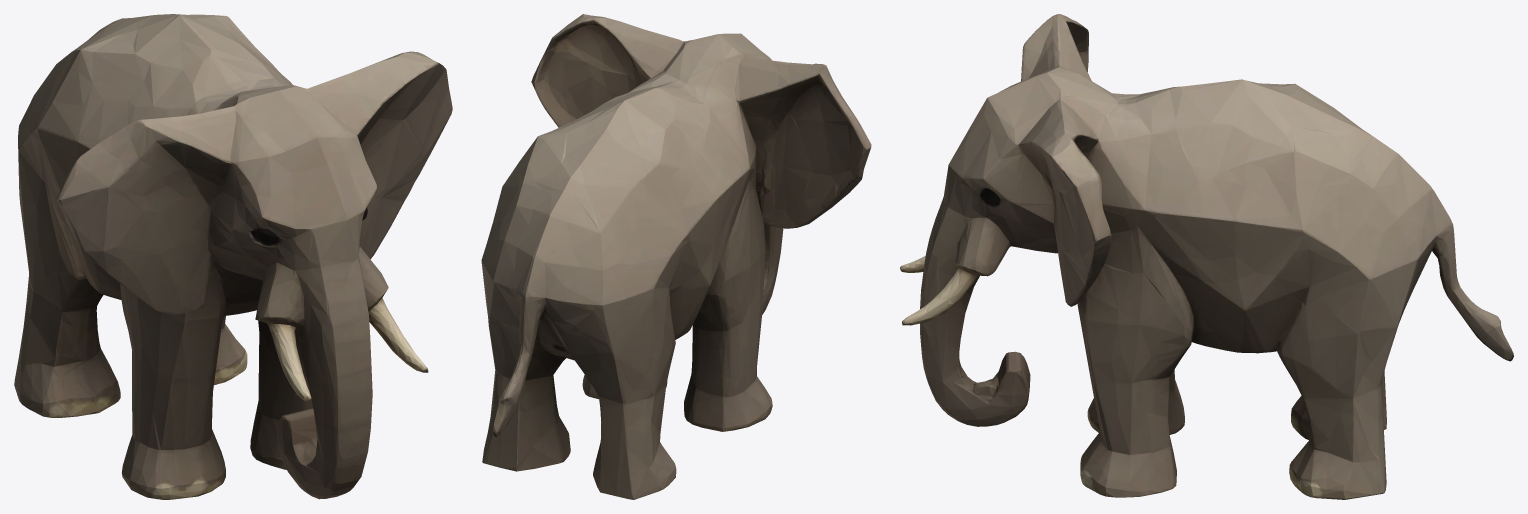
File: elephant.glb
The picture shows the model from 3 angles, left to right: view 1: azimuth 30°, elevation 25°; view 2: azimuth 150°, elevation 25°; view 3: azimuth 270°, elevation 25°; orthographic projection. The views are drawn at different scales.
Parts seen in each view (by area): view 1: world; view 2: world; view 3: world.
Part boxes in pixels (x1=…): world: x1=14, y1=14, x2=452, y2=499; world: x1=481, y1=14, x2=871, y2=499; world: x1=900, y1=14, x2=1513, y2=499.
Size of the model in its own units: 0.6923 by 0.673 by 0.997.
Materials: 1 (1 with a texture image).
